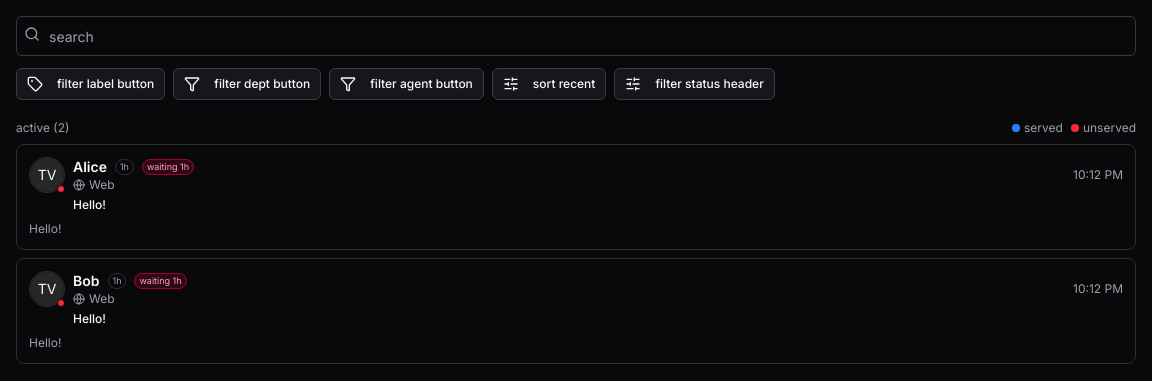
it: ConversationList search › filters by email
Type "bob@test.com" into the field with placeholder "search" at (576, 36), box [16,16,1136,56]
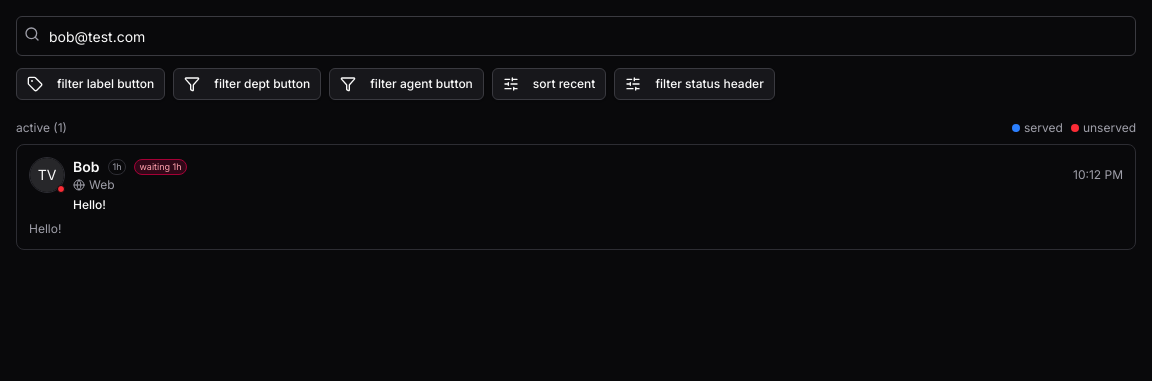
Expected: the text "Bob" is shown, [73,157,100,177]
Now the button "Alice" is gone
